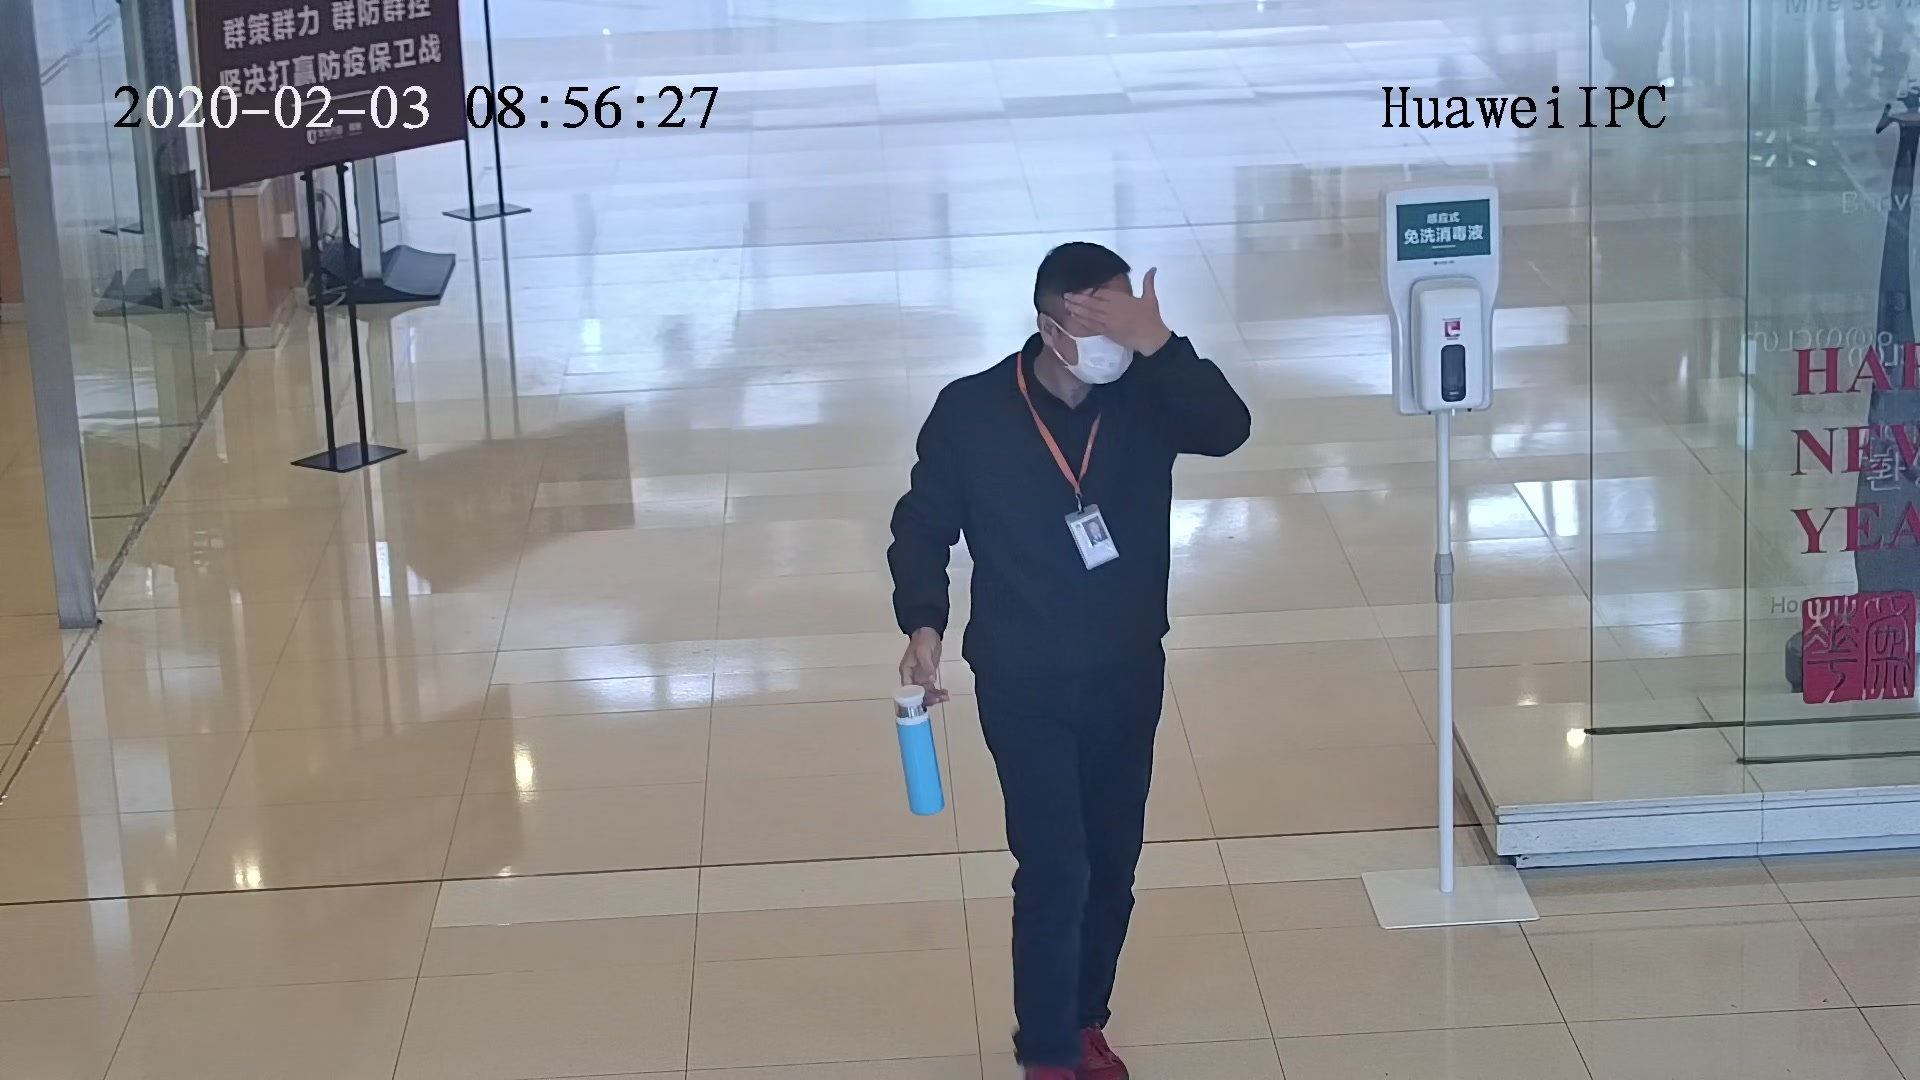face: (1061, 295, 1137, 390)
mask: (1076, 334, 1132, 381)
person: (943, 238, 1201, 452)
